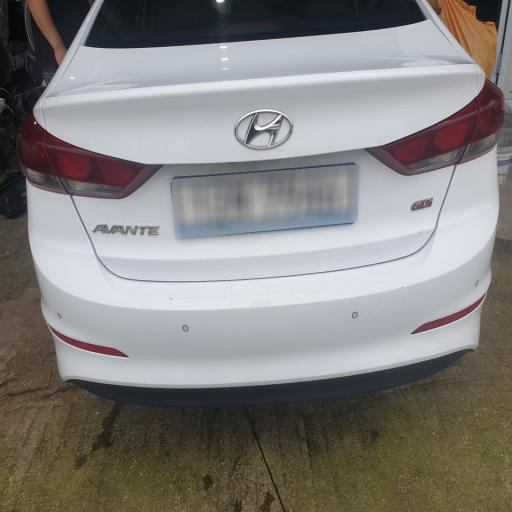normal: (4, 9, 512, 423)
